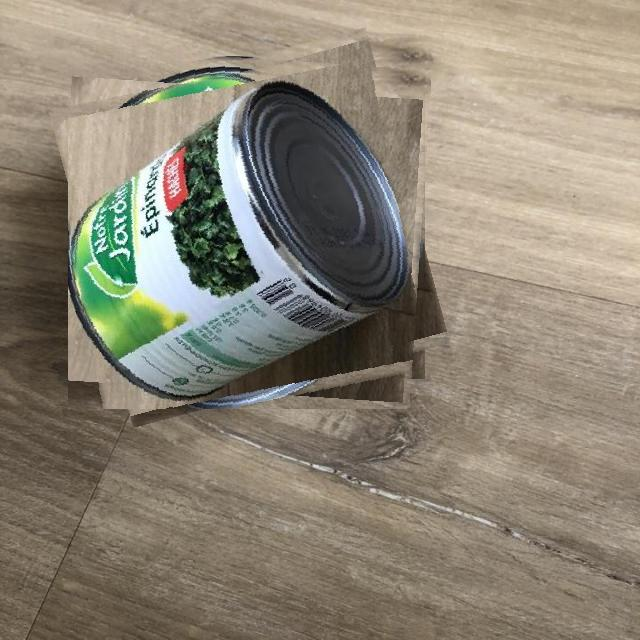recyclable: (68, 46, 432, 409)
